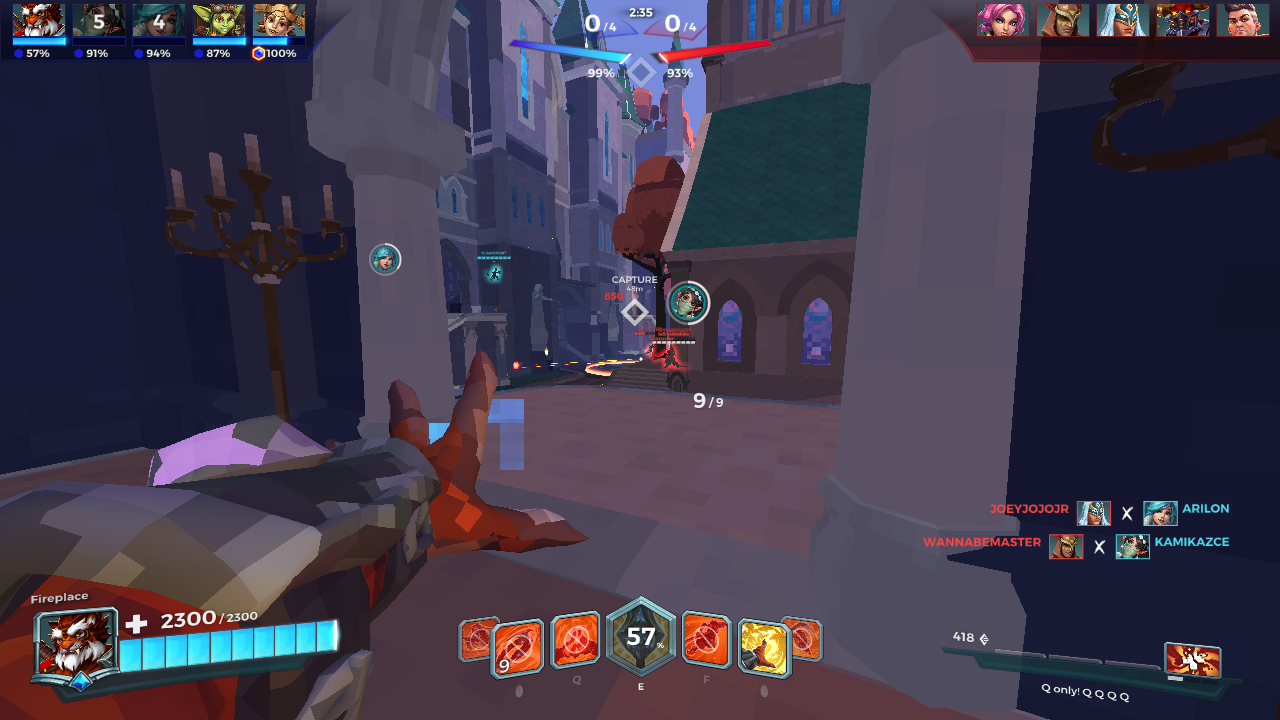model: (660, 350, 684, 367), (644, 341, 654, 356)
